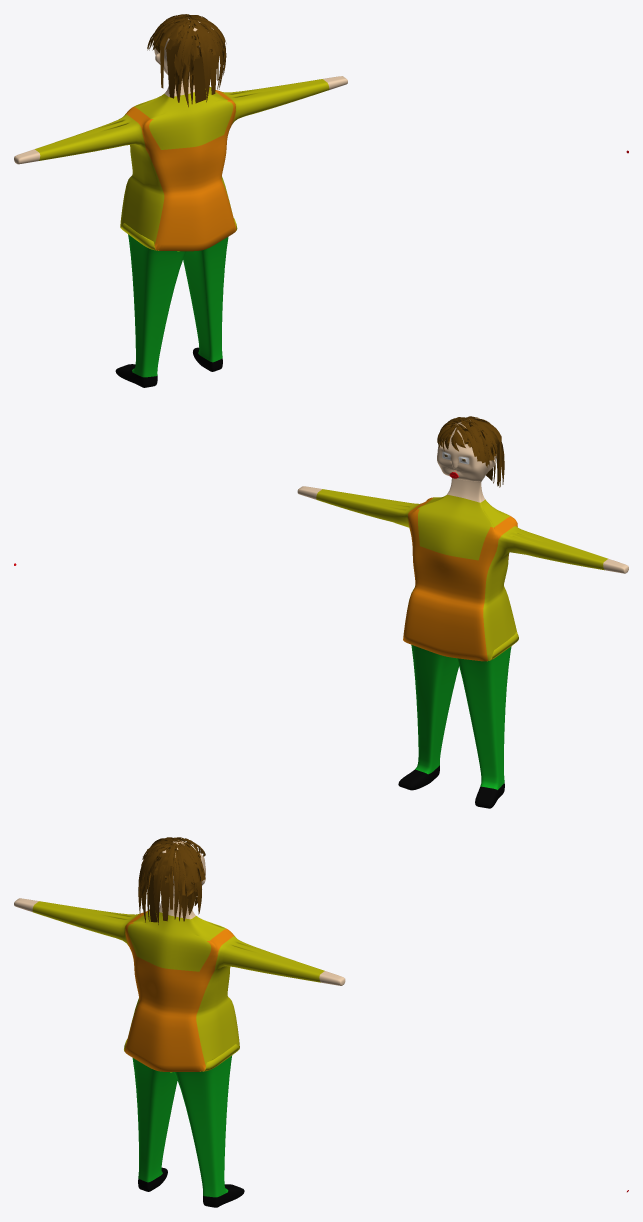
The model's file is Anne_Marie_T_Form_Schuertze.fbx.
The picture shows the model from 3 angles, top to bottom: view 1: azimuth 30°, elevation 25°; view 2: azimuth 150°, elevation 25°; view 3: azimuth 330°, elevation 25°; orthographic projection.
Visible parts, largest first — view 1: Cube, NurbsPath.001; view 2: Cube, NurbsPath.001; view 3: Cube, NurbsPath.001.
Part boxes in pixels (<box>): Cube: <box>14,18,347,387</box>; NurbsPath.001: <box>147,14,226,107</box>; Cube: <box>297,417,628,808</box>; NurbsPath.001: <box>437,416,504,487</box>; Cube: <box>14,840,345,1207</box>; NurbsPath.001: <box>138,837,205,924</box>.
Size of the model in its own units: 214 by 121 by 27.45.
